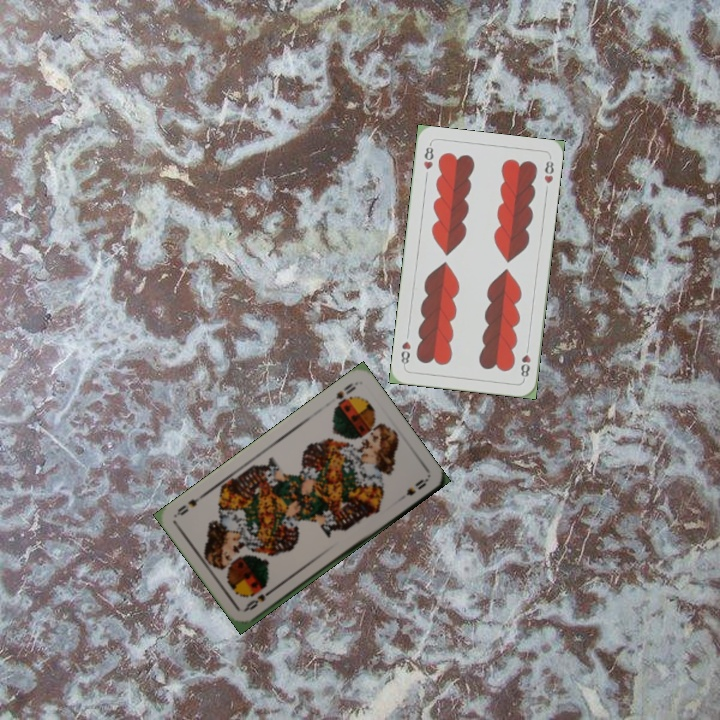H8: (517, 341, 533, 382), (419, 140, 436, 172)
SO: (241, 584, 277, 613), (331, 379, 360, 407)
